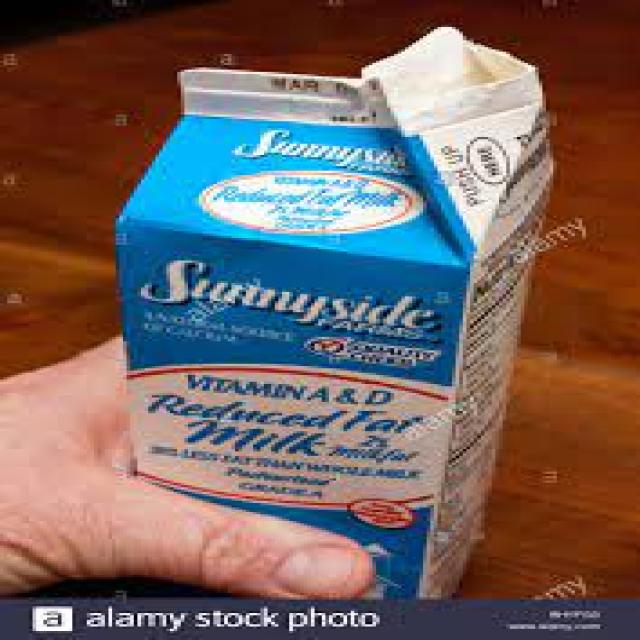cardboard: (121, 24, 553, 600)
